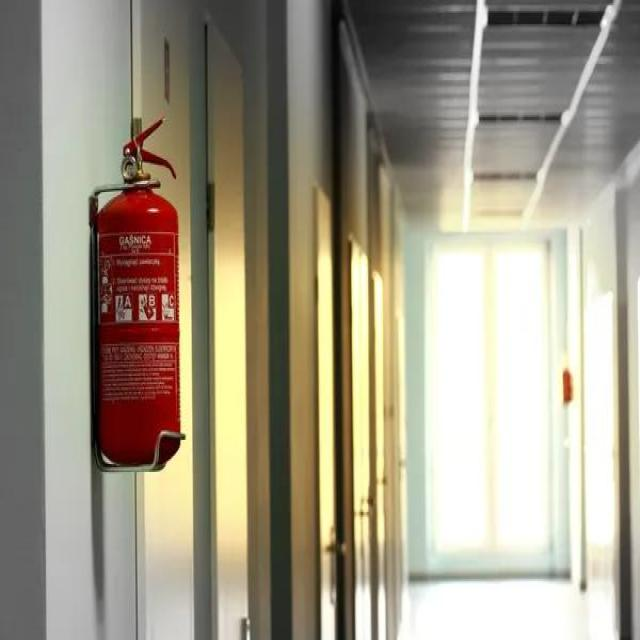fire_extinguisher: (88, 110, 185, 470)
